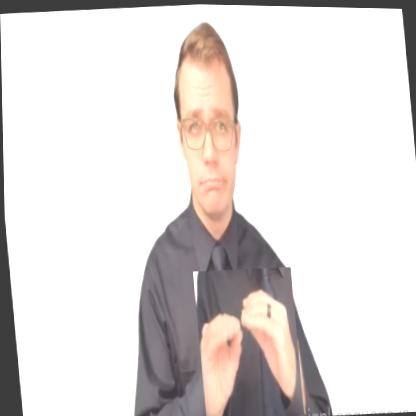Fix: (192, 263, 302, 416)
